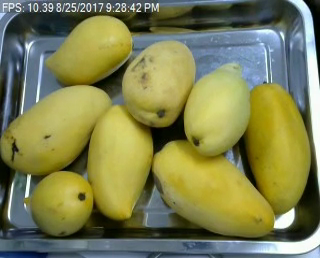Mango: (151, 141, 274, 238), (0, 84, 115, 173), (241, 83, 313, 215), (85, 103, 153, 220), (121, 40, 196, 128), (183, 62, 250, 156), (46, 14, 135, 84), (30, 171, 93, 237)
